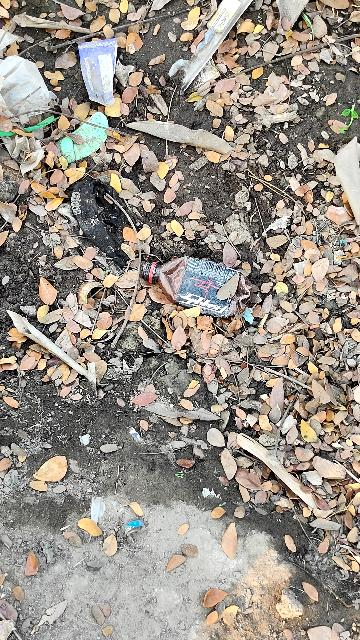bottle: (135, 250, 259, 321)
